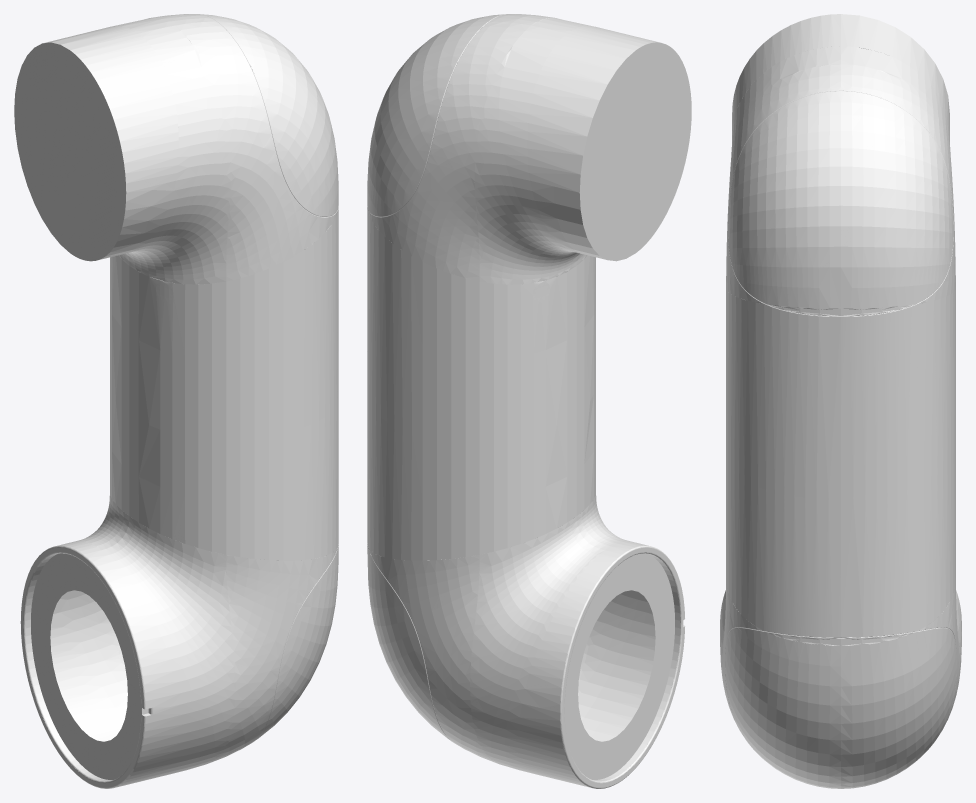
Rendered from joint3.dae.
3 views of the same model, side by side, from view 1: azimuth 30°, elevation 25°; view 2: azimuth 150°, elevation 25°; view 3: azimuth 270°, elevation 25° (orthographic). The views are drawn at different scales.
Visible parts, largest first — view 1: Link3; view 2: Link3; view 3: Link3.
Part boxes in pixels (box(x1,y1,x2,y2)): Link3: box(14, 14, 338, 788); Link3: box(367, 14, 691, 788); Link3: box(720, 14, 961, 788).
Size of the model in its own units: 0.0554 by 0.048 by 0.156.
Materials: 1 (1 with a texture image).
